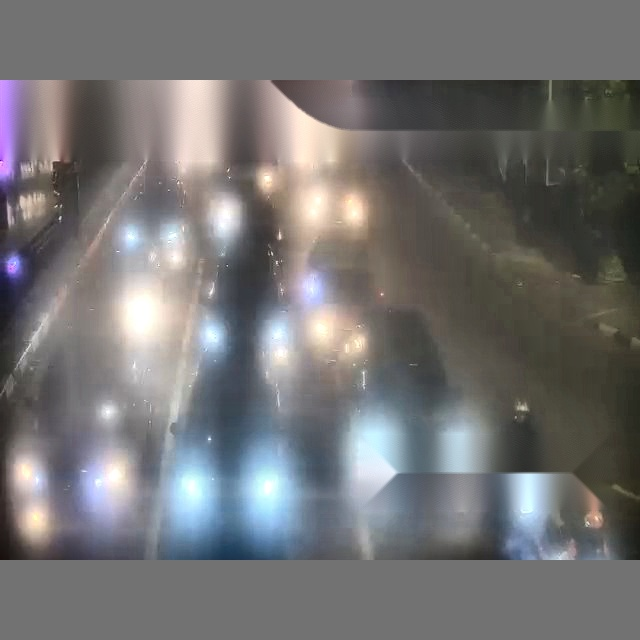Motor: (209, 182, 244, 266)
Truk: (0, 81, 72, 316)
